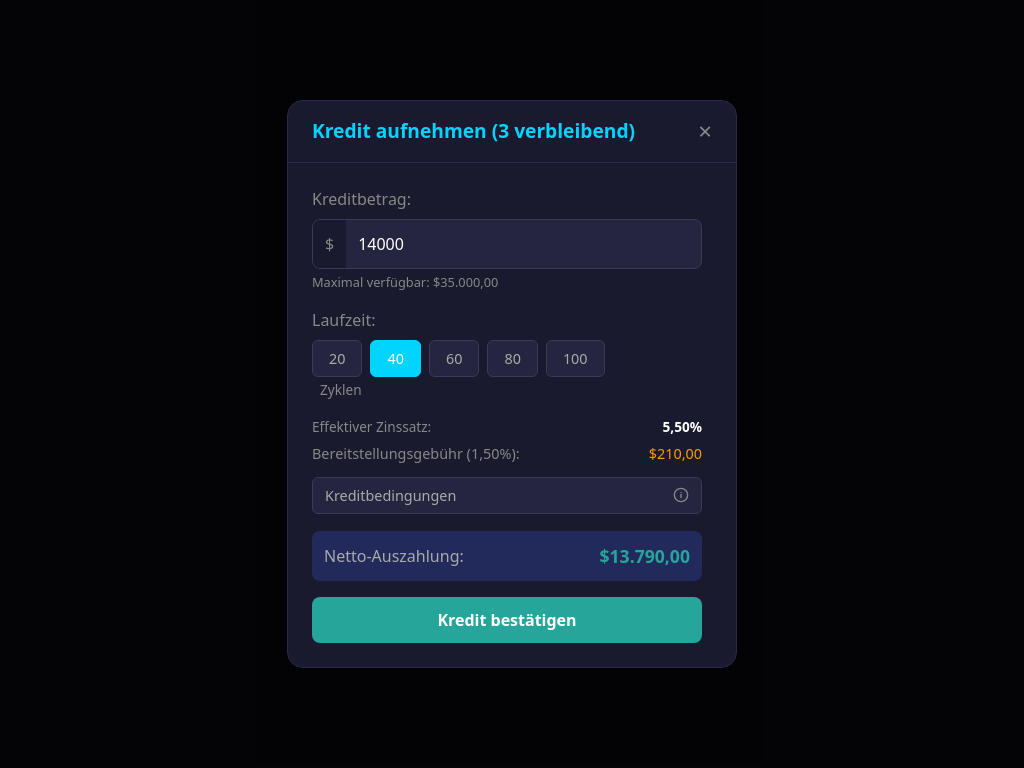
Scenario: Loan › cost summary › should calculate origination fee correctly
The image size is (1024, 768).
Replace the text in the field with placeholder "0" with "1000": coordinates (524, 244) x1=346 y1=221 x2=701 y2=267
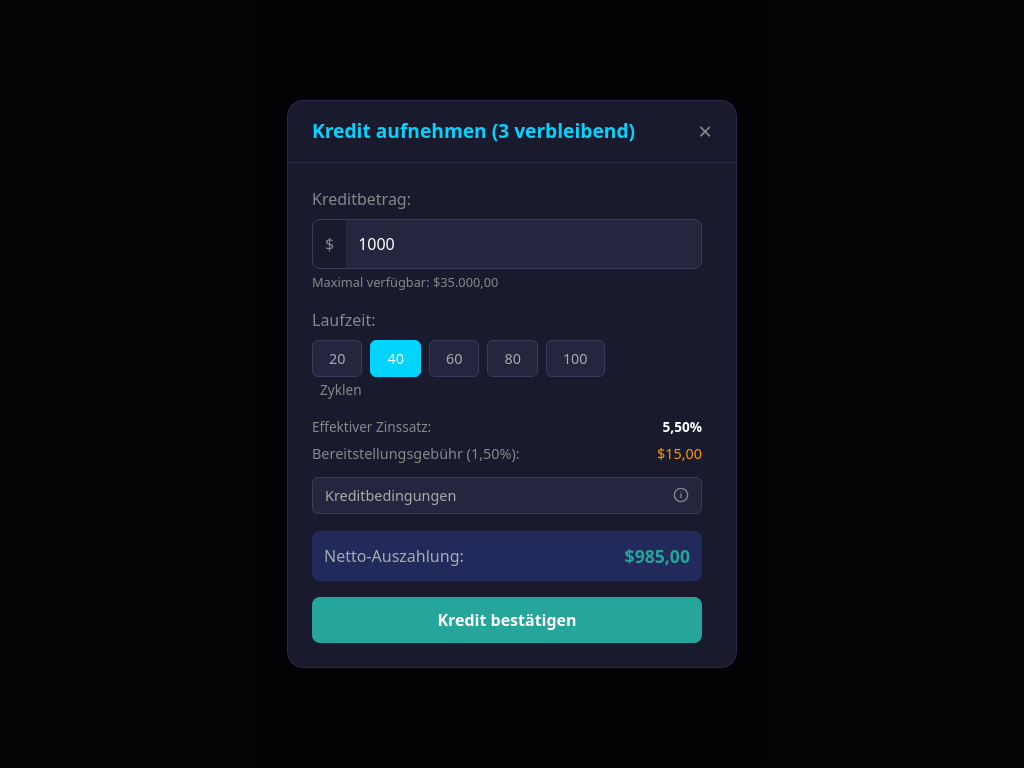
Expected: the text "$15,00" is shown, x1=657 y1=443 x2=702 y2=465
